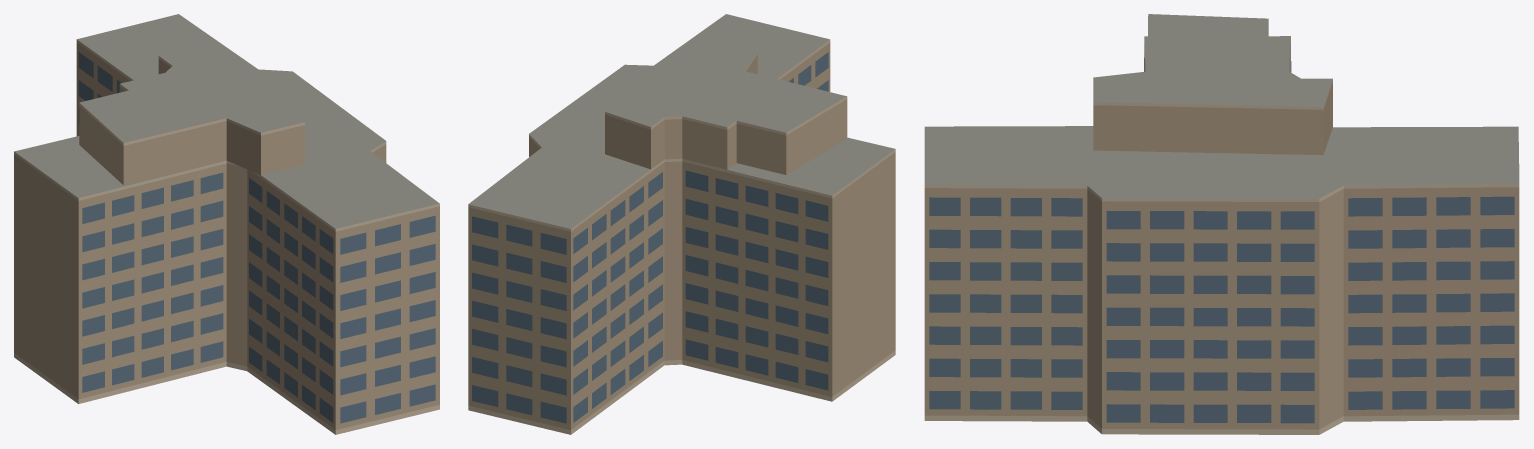
Rendered from dc-au-hughes-hall.glb.
3 views of the same model, side by side, from view 1: azimuth 30°, elevation 25°; view 2: azimuth 150°, elevation 25°; view 3: azimuth 270°, elevation 25° (orthographic). The views are drawn at different scales.
Visible parts, largest first — view 1: Hughes Hall; view 2: Hughes Hall; view 3: Hughes Hall.
Part boxes in pixels (x1,y1,x2,y2): Hughes Hall: (14, 14, 439, 434); Hughes Hall: (468, 14, 895, 434); Hughes Hall: (924, 14, 1519, 434).
Size of the model in its own units: 35.22 by 28.7 by 54.43.
